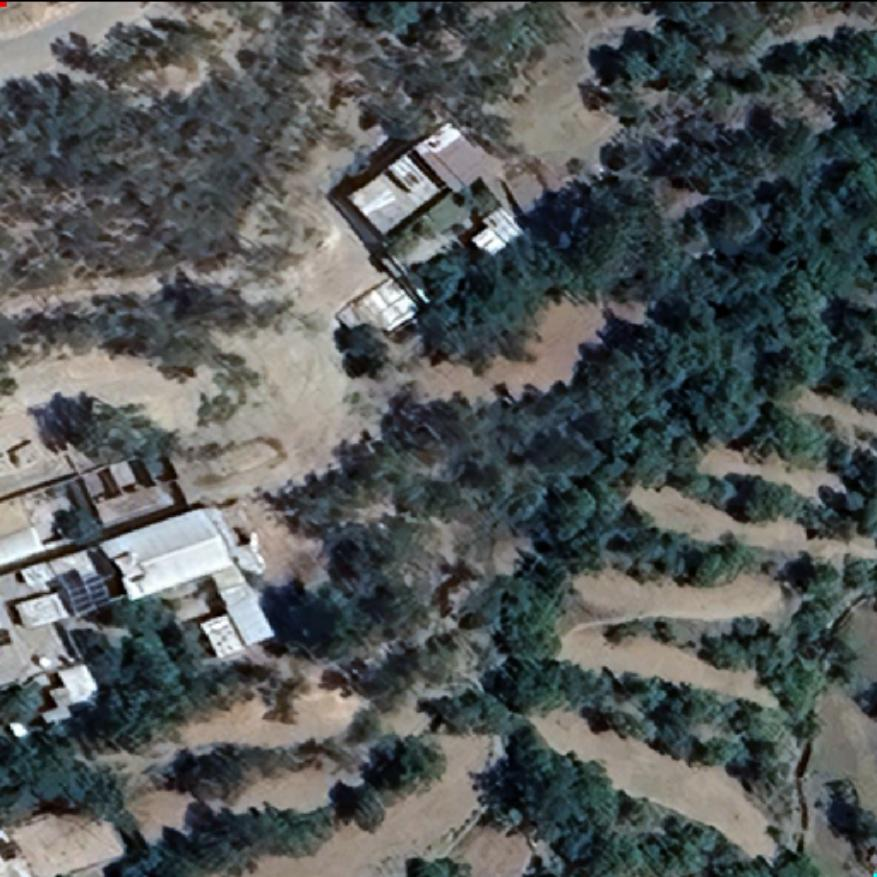Solarpanel: (65, 572, 111, 616)
